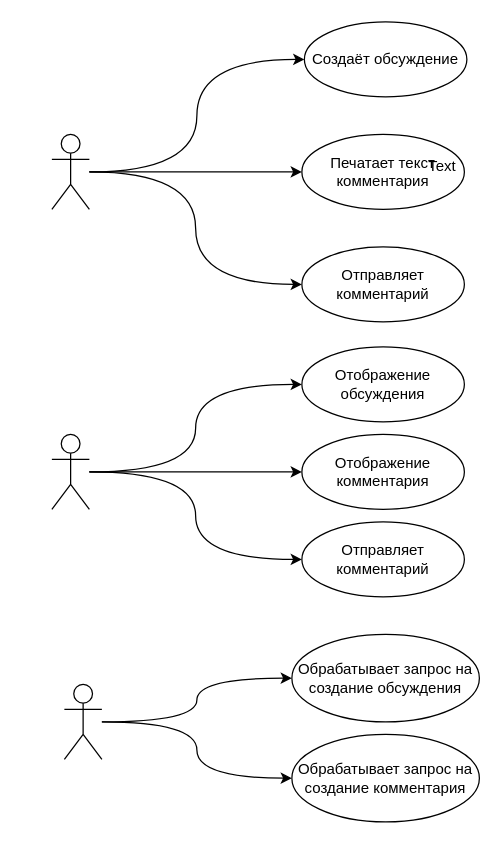
Some shapes in this 501 by 844 pixel diagram are drawn without their labels. Each missing label, with the centre of its shape:
Бэкенд: (82,721)
Пользователь: (70,171)
Приложение: (70,471)
